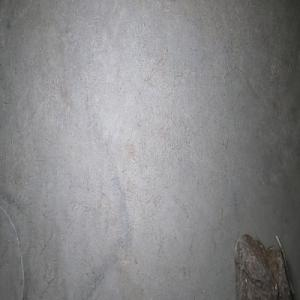Rock: (233, 233, 294, 300)
